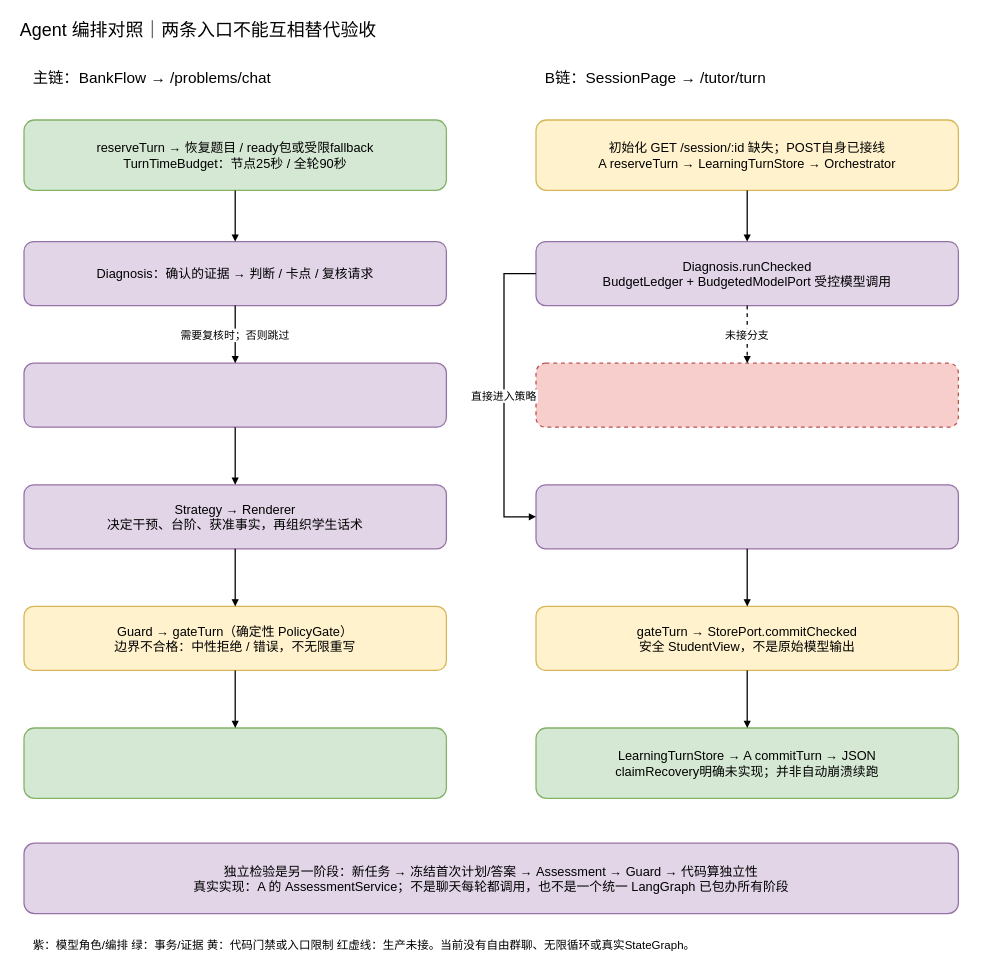
Image size: 988x975. Some labels were removed from this diagram. Here are the shapes that lost their labels. From the top down, the centre of each, then its label:
At point 235,395: "可选：Preparation(route_review) → route Guard 审核学生异解，保留合格路线补丁".
At point 747,395: "生产接线 routeReviewInput = null 异解 / skip / reveal 等未完整接入".
At point 747,516: "Strategy.runChecked → Renderer → Guard 需要时最多一次表达重写，再 Guard".
At point 235,763: "A commitTurn 最终事务 → SSE chunk / done 节点审计 ≠ 提交；禁止先流出未检查模型文本".
